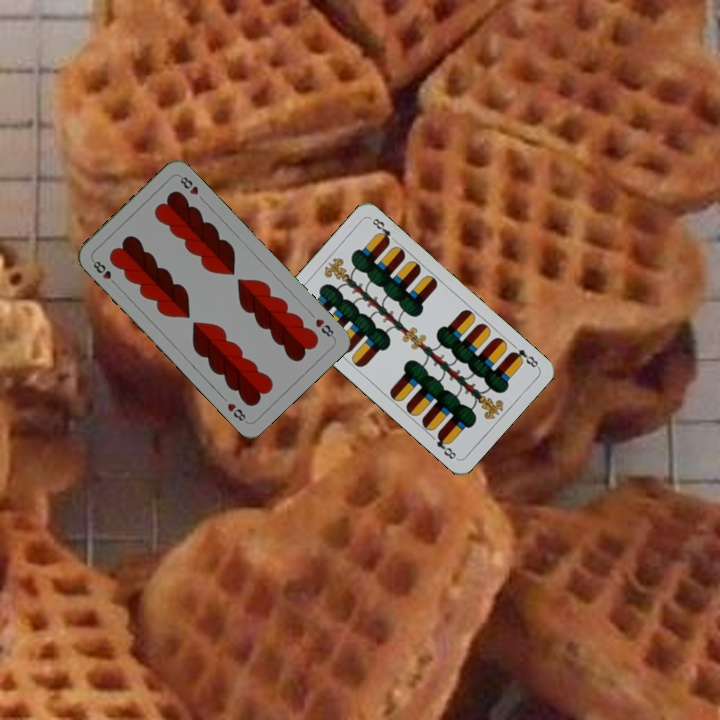E8: (506, 345, 541, 370)
H8: (88, 255, 120, 288), (311, 314, 337, 341)
